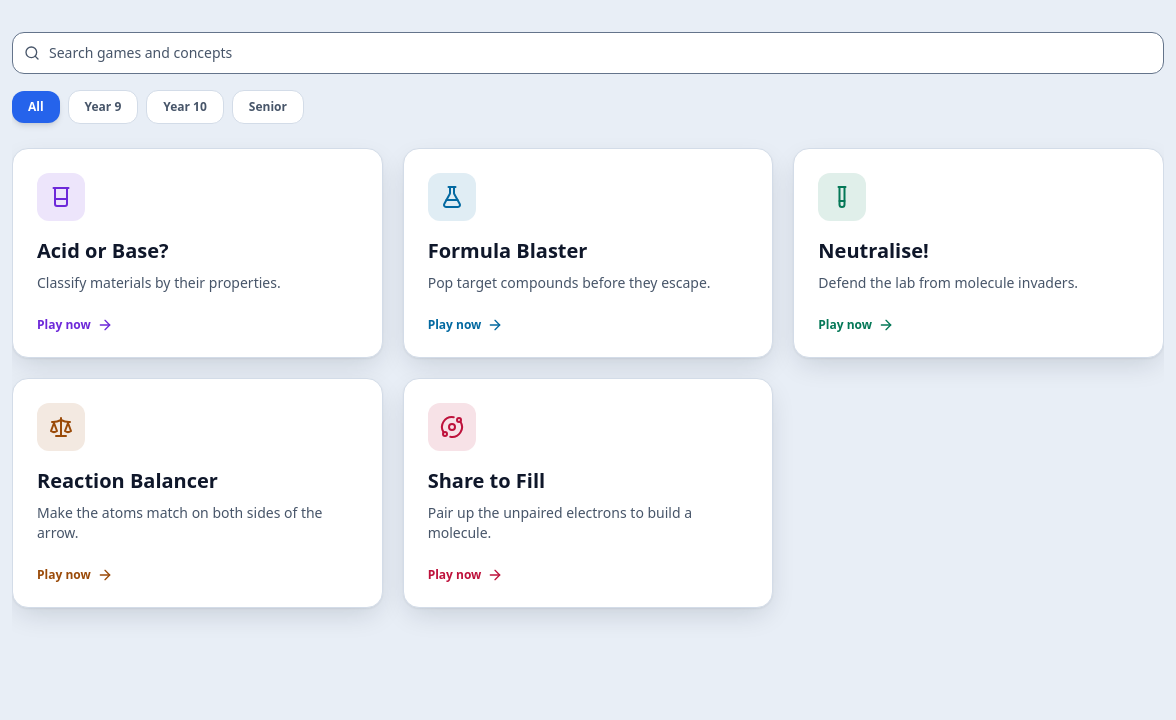
Test case: GamesBrowser › offers a way out of an empty result
The image size is (1176, 720).
Step 1. Type "zzzz" into the search field labelled "Search games" → (588, 53), box x1=12 y1=32 x2=1164 y2=74
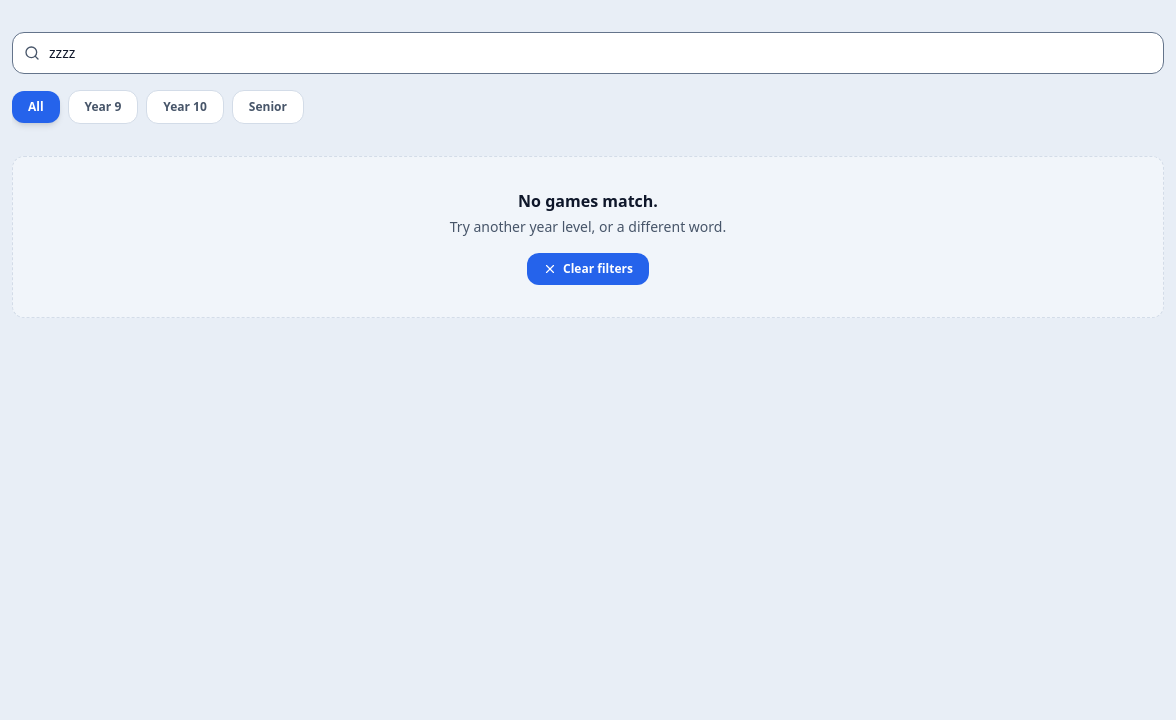
Expected: no headings are shown
Expected: the text "No games match." is shown, x1=518 y1=190 x2=658 y2=212
Step 2. Click the button "Clear filters" → click(588, 269), box x1=527 y1=253 x2=649 y2=285
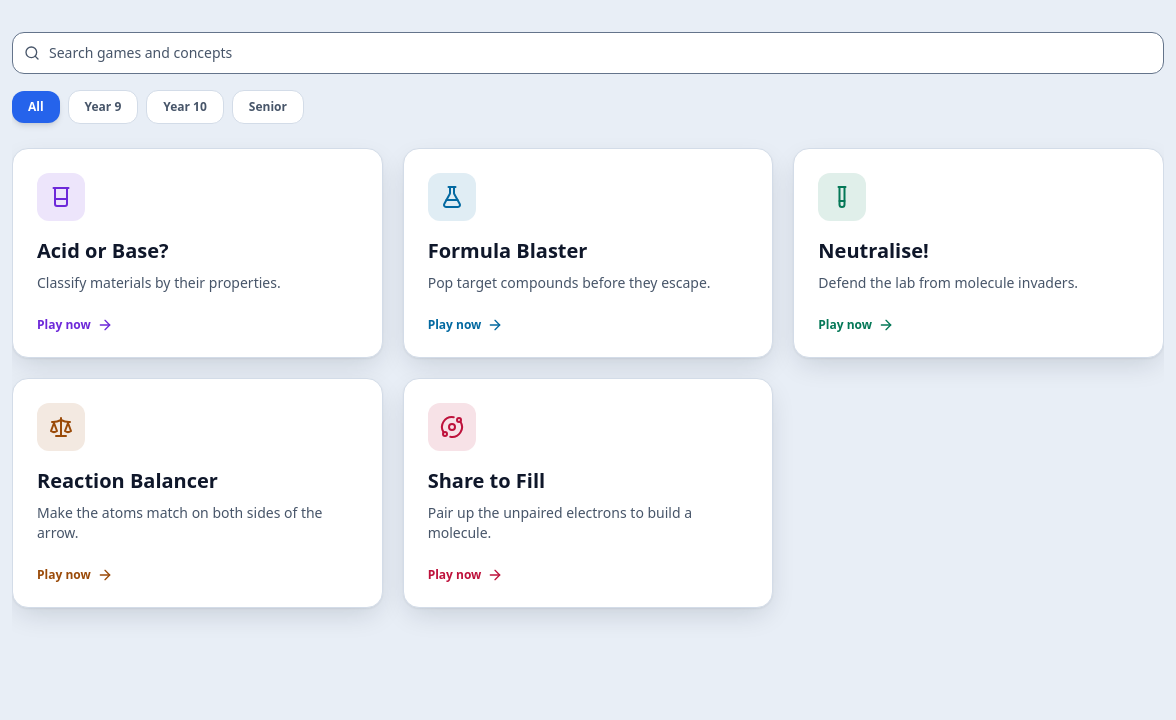
Expected: the number of headings is 5, x1=37 y1=237 x2=168 y2=264; x1=428 y1=237 x2=588 y2=264; x1=818 y1=237 x2=929 y2=264; x1=37 y1=467 x2=218 y2=494; x1=428 y1=467 x2=545 y2=494
Expected: the search field labelled "Search games" is empty, x1=12 y1=32 x2=1164 y2=74
